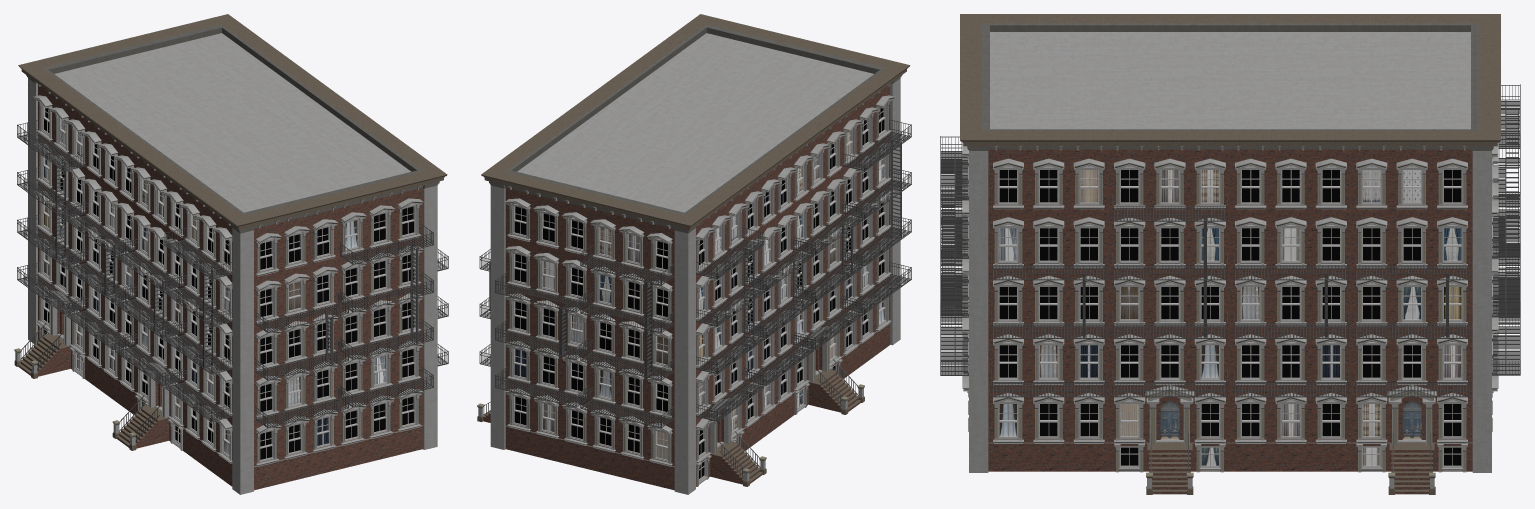
The model's file is Building02.fbx.
The picture shows the model from 3 angles, left to right: view 1: azimuth 30°, elevation 25°; view 2: azimuth 150°, elevation 25°; view 3: azimuth 270°, elevation 25°; orthographic projection. The views are drawn at different scales.
Parts seen in each view (by area): view 1: Building02; view 2: Building02; view 3: Building02.
Boxes of the visible parts, <box> form: Building02: <box>14,14,448,494</box>; Building02: <box>477,14,911,494</box>; Building02: <box>940,14,1520,494</box>.
Bounding box in the file's own units: 2383 × 2300 × 3594.
